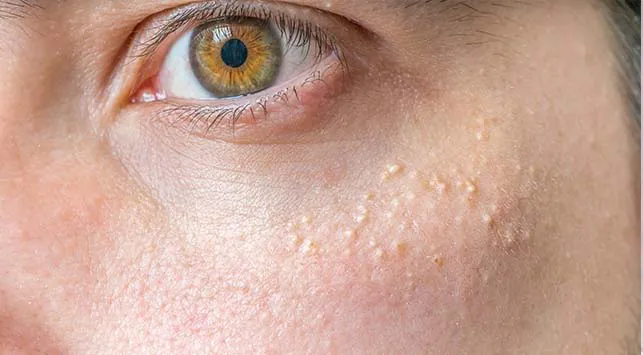Milia: (289, 151, 559, 305)
